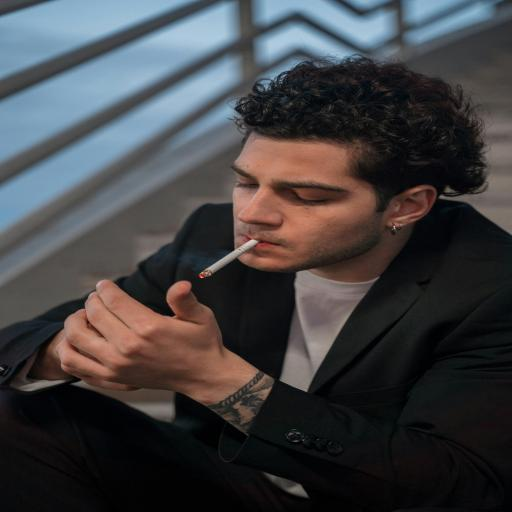terdeteksi merokok: (185, 148, 337, 287)
